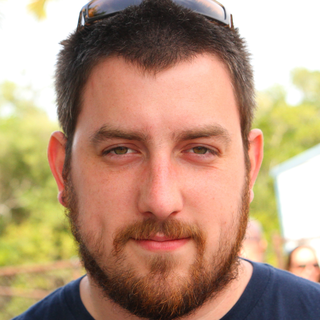eye: (96, 139, 147, 165), (176, 140, 222, 164)
